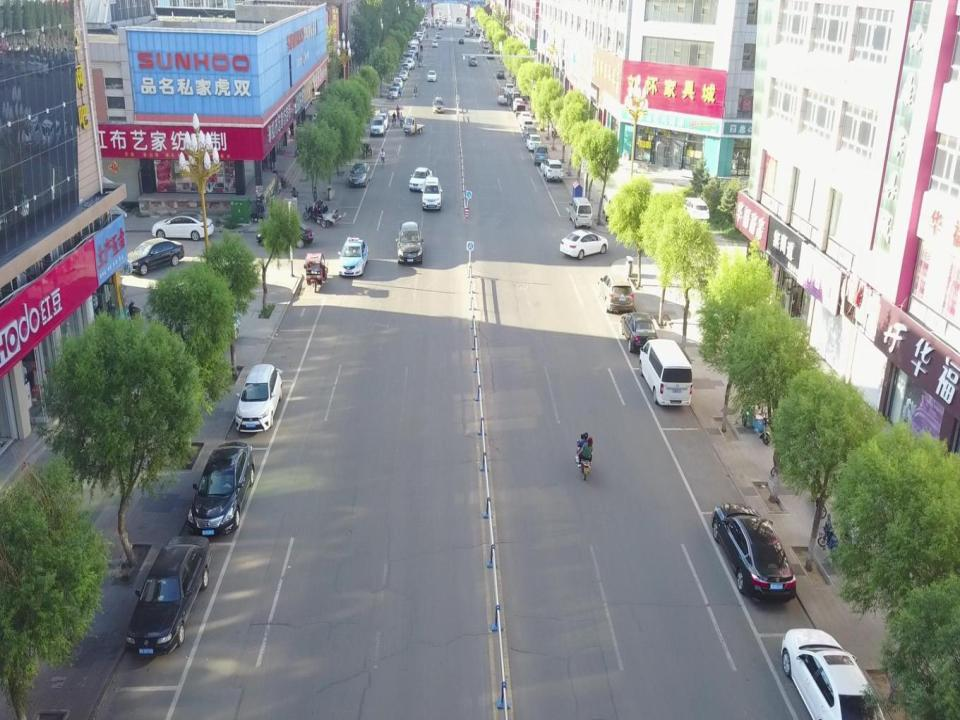car: (124, 536, 211, 654), (781, 628, 886, 720), (712, 501, 798, 603), (188, 442, 254, 538), (236, 364, 282, 431), (124, 237, 184, 276), (152, 212, 213, 241), (620, 310, 658, 352), (255, 223, 314, 250), (559, 229, 609, 259), (598, 273, 634, 311), (338, 236, 369, 279), (396, 222, 423, 264), (421, 176, 442, 212), (409, 168, 432, 191), (348, 163, 370, 186), (543, 158, 563, 182), (370, 115, 385, 136), (525, 134, 541, 150), (376, 113, 388, 129), (432, 97, 444, 113), (524, 124, 536, 140), (517, 110, 530, 123), (519, 118, 533, 130), (513, 96, 523, 112), (388, 86, 398, 98), (511, 92, 519, 106), (426, 71, 437, 81), (468, 55, 477, 67), (497, 69, 506, 80), (394, 79, 403, 89), (505, 83, 514, 93), (407, 59, 415, 70), (404, 57, 412, 67), (276, 180, 281, 195), (402, 66, 410, 75), (408, 40, 419, 46), (402, 64, 410, 72), (400, 70, 406, 80), (408, 49, 414, 59), (487, 48, 493, 58), (431, 39, 438, 47), (406, 53, 412, 62), (417, 29, 424, 36), (435, 32, 441, 40), (418, 34, 424, 41), (411, 38, 420, 42), (421, 26, 426, 33), (458, 38, 463, 44), (479, 35, 484, 41), (416, 35, 420, 41), (439, 25, 443, 30)
truck: (403, 116, 424, 136), (497, 88, 507, 105), (516, 100, 525, 117), (410, 46, 417, 57), (475, 28, 480, 37)
van: (638, 339, 691, 410), (568, 196, 592, 228), (602, 188, 623, 220), (534, 142, 550, 165), (483, 39, 490, 49), (465, 28, 471, 37)
